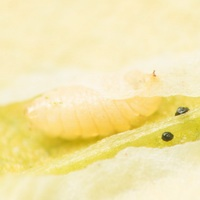insect: (175, 107, 188, 115), (162, 132, 173, 140)
